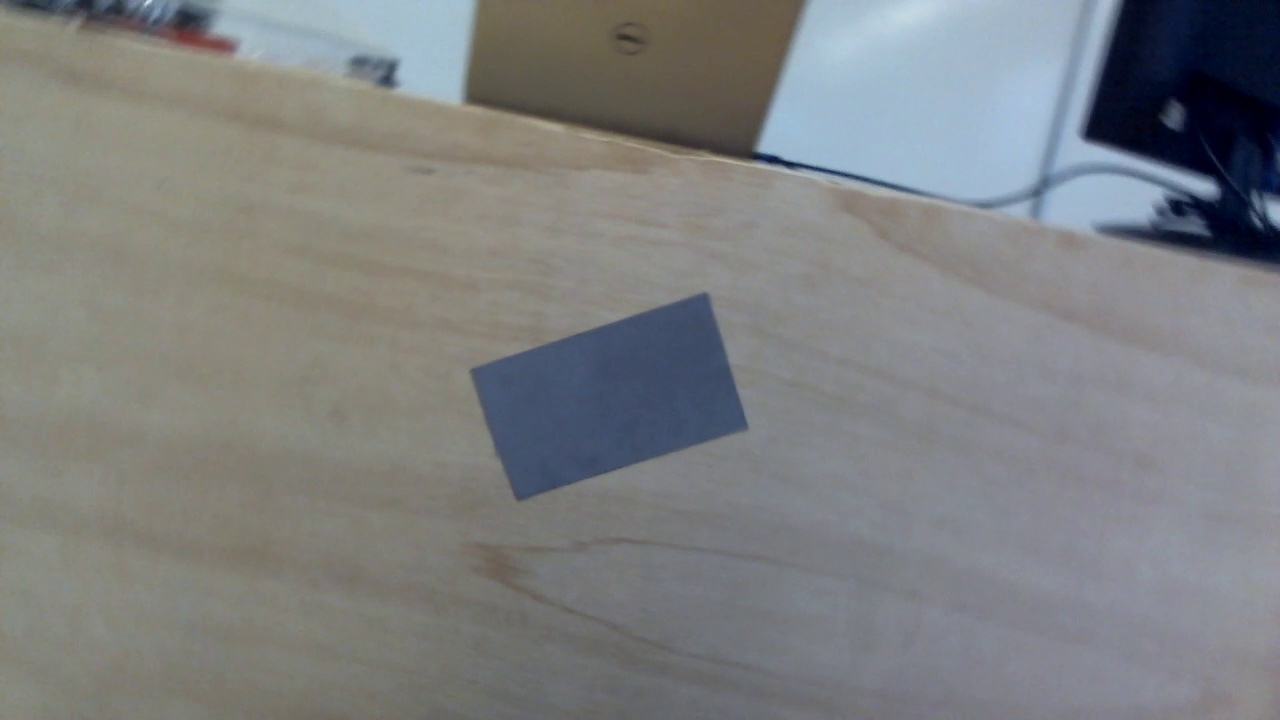Tape: (471, 293, 753, 505)
